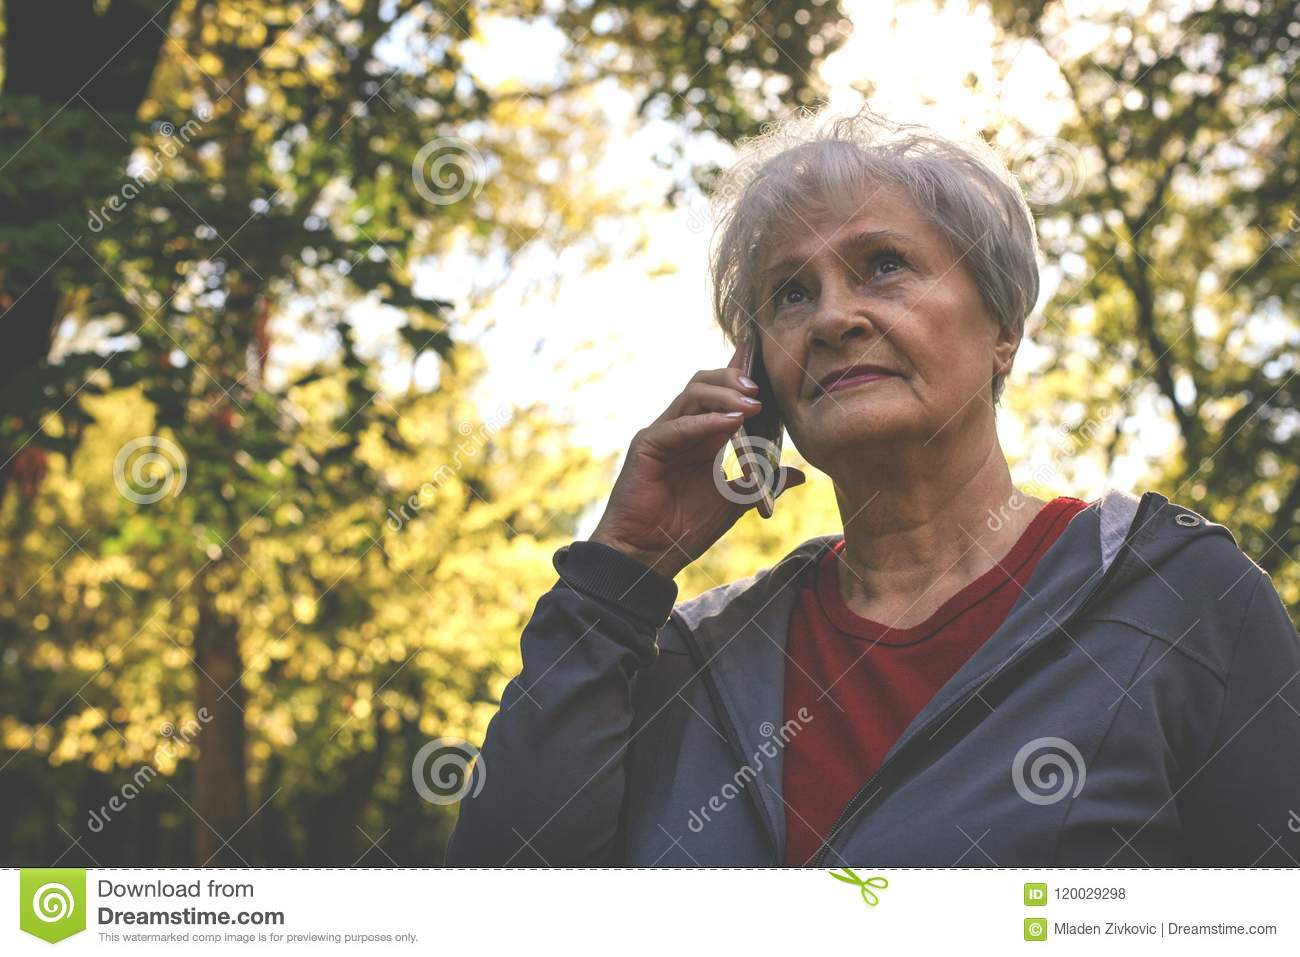phone: (725, 322, 787, 519)
talk: (601, 217, 979, 543)
